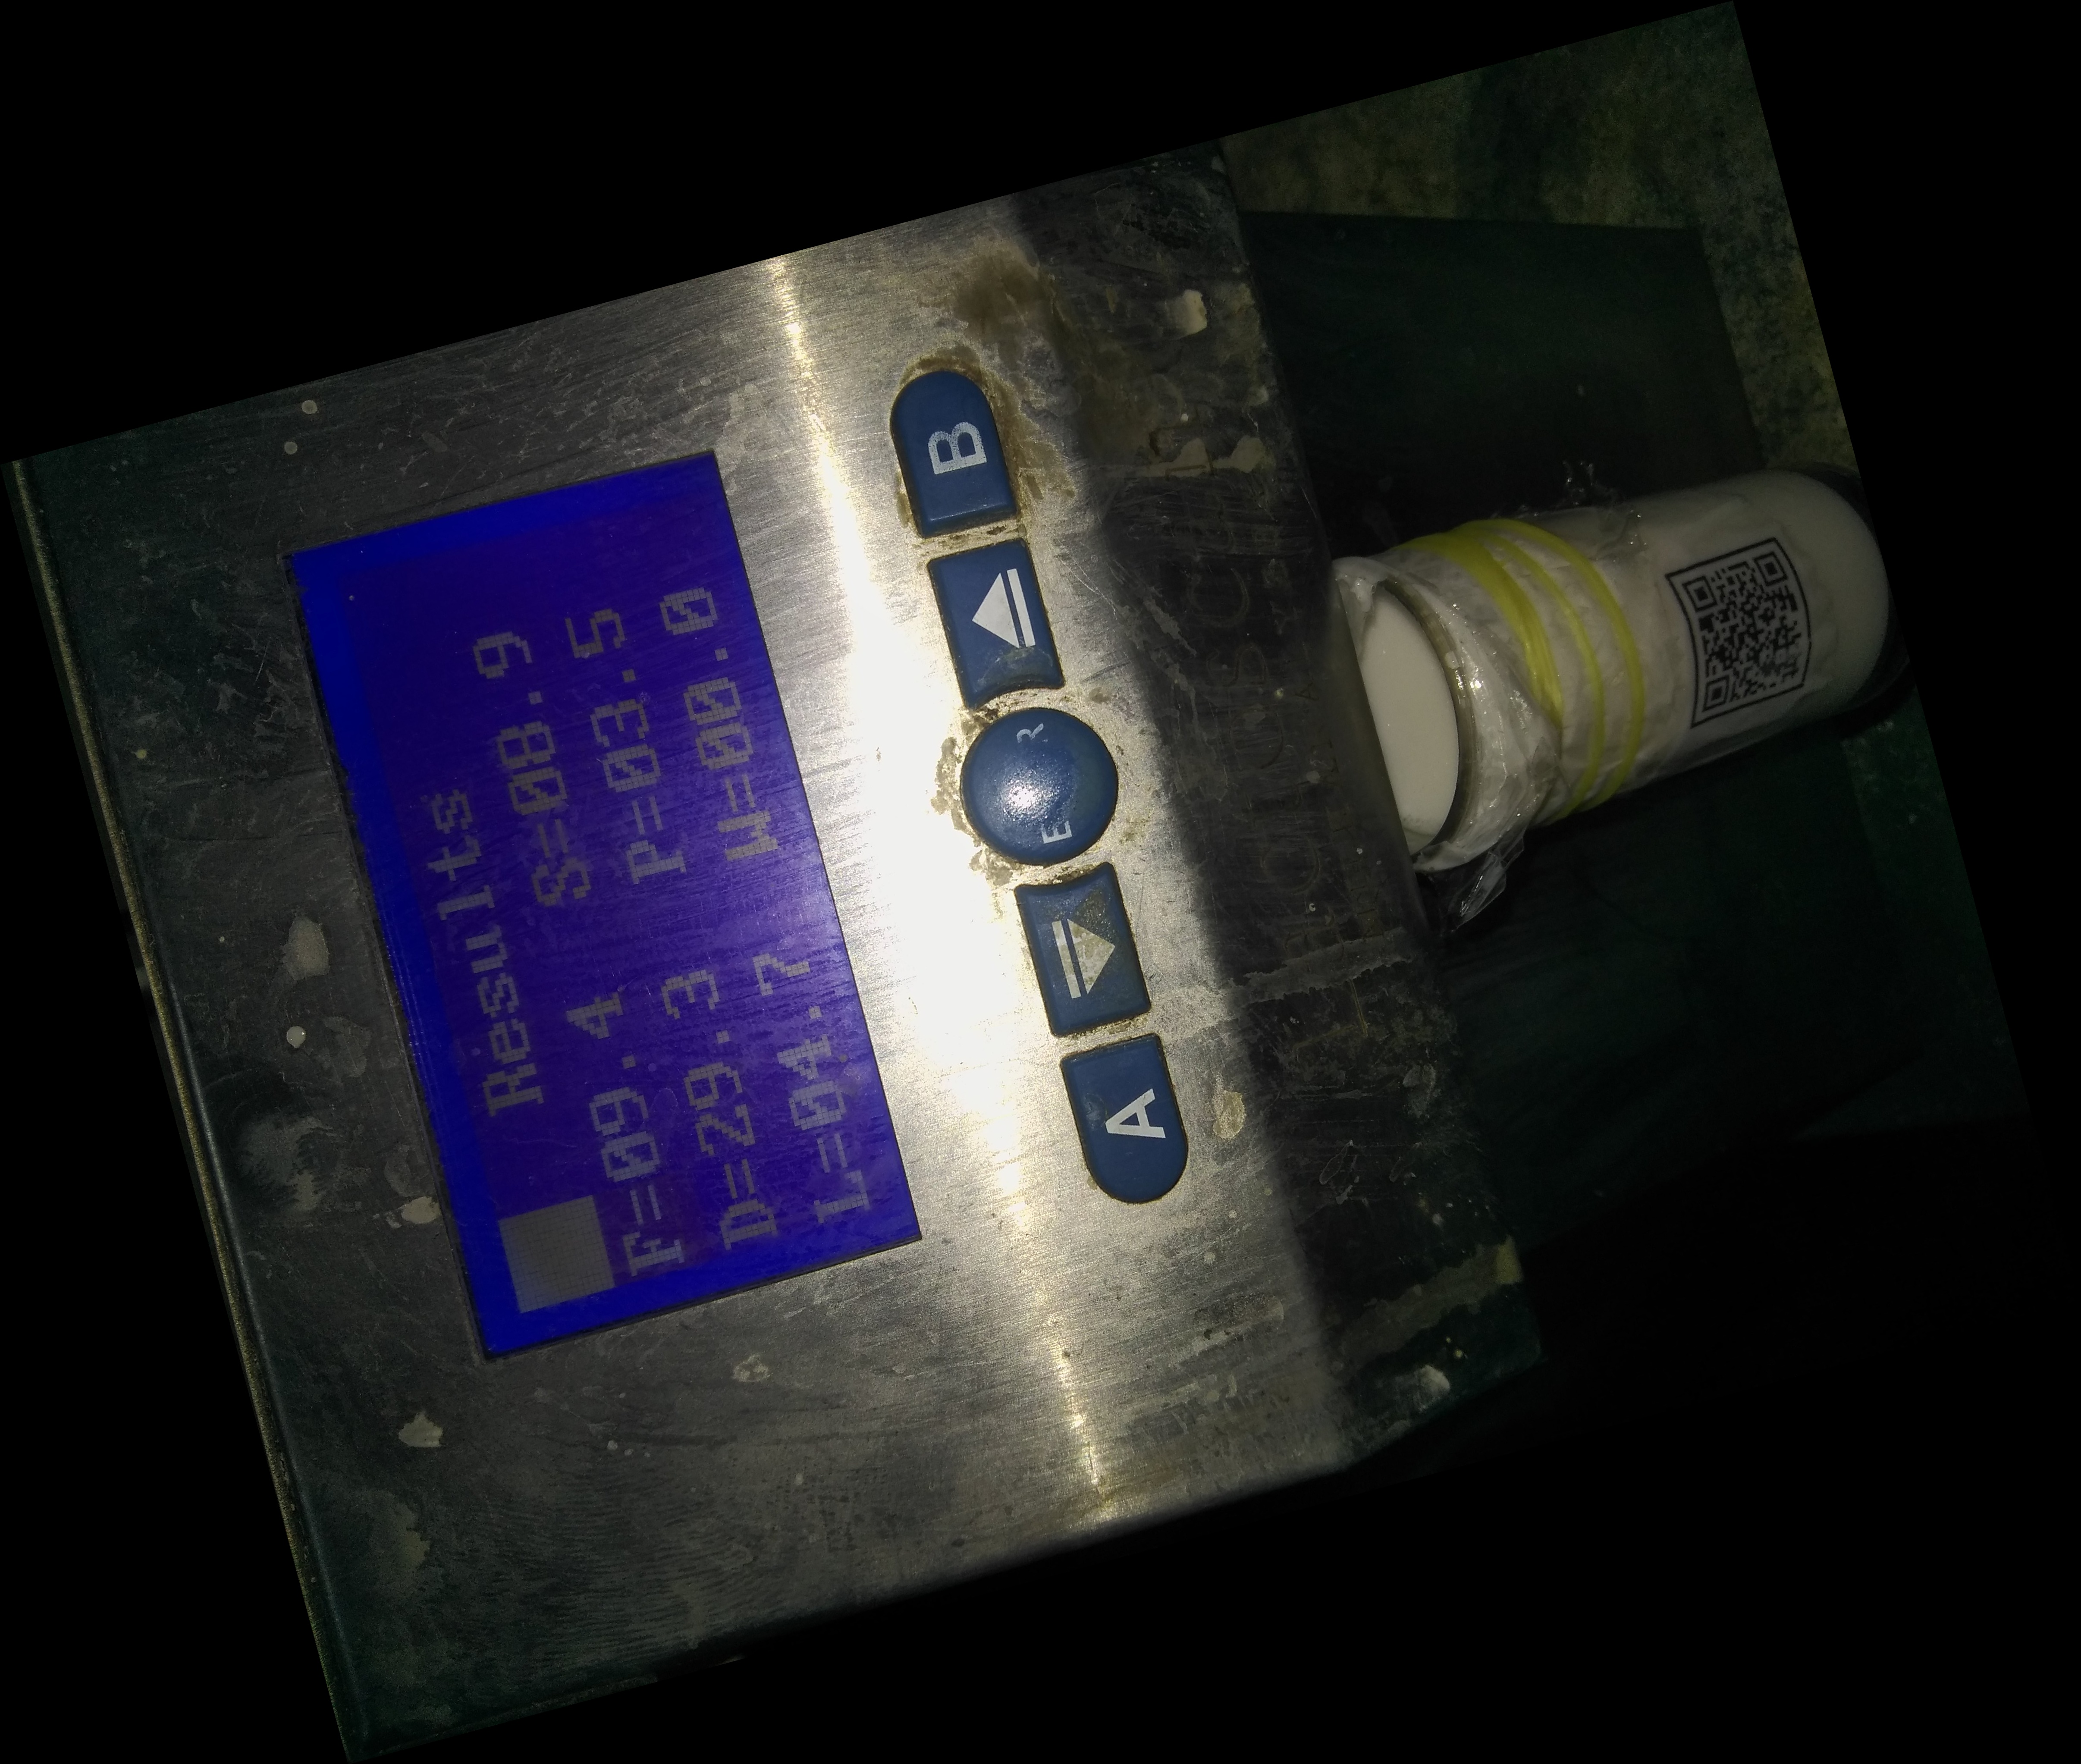lcd: (261, 432, 936, 1396)
qr: (1659, 518, 1831, 737)
